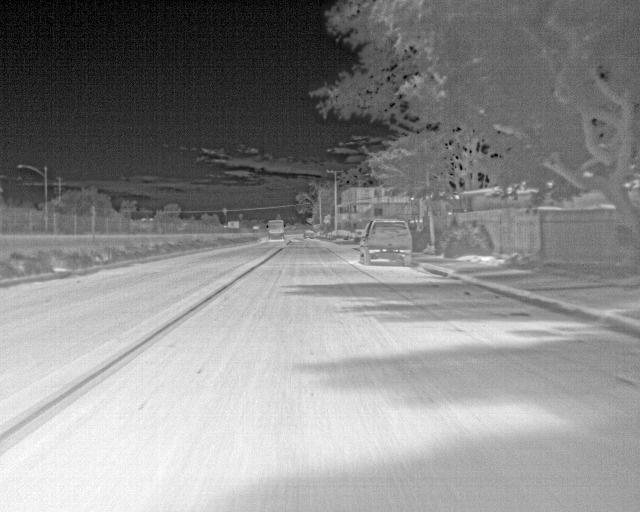car: (357, 216, 416, 268), (264, 218, 285, 241)
